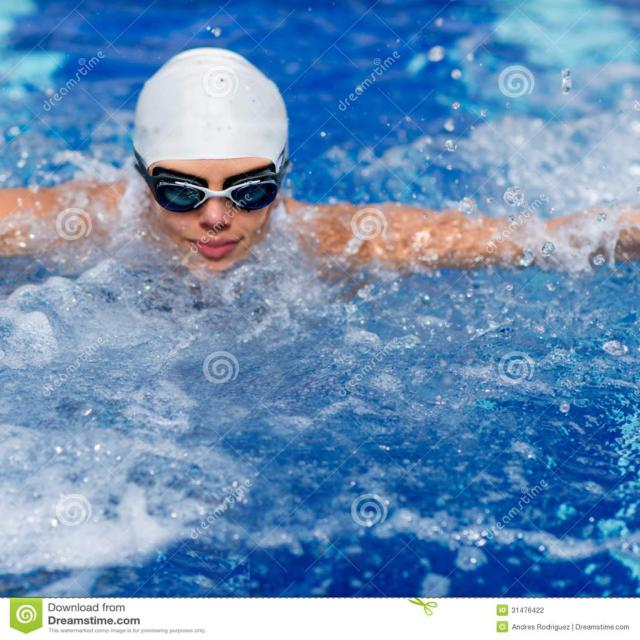Face: (136, 121, 274, 275)
